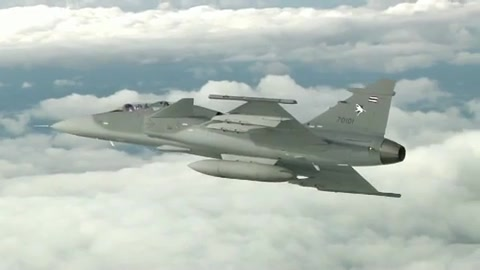aeroplane: (32, 79, 408, 198)
